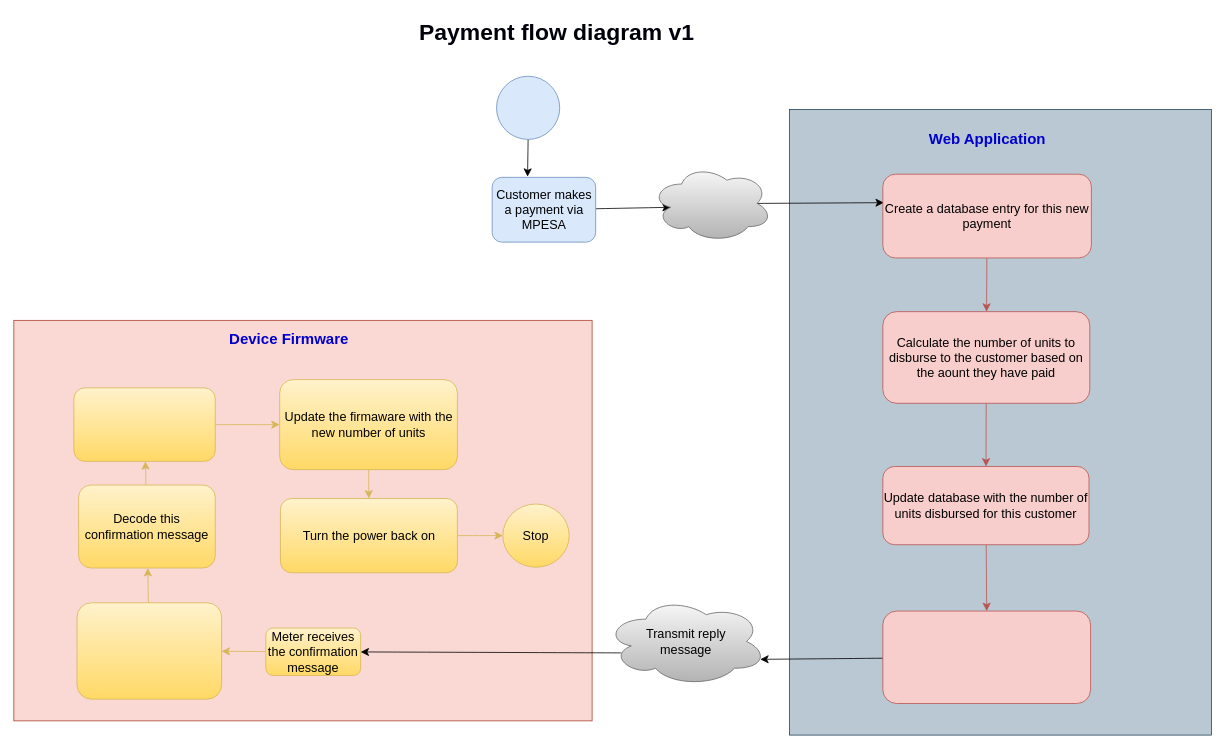
This 1225x749 diagram has some shape labels left out. Each missing label, with the centre of its shape:
Compose an payment confirmation message and send it via HTTP: the point at 986,656
Confirm that this message is meant for this meter by checking the meter ID: the point at 149,650
Extract number of units bought: the point at 144,424
MPESA API: the point at 711,203
Start: the point at 528,107
